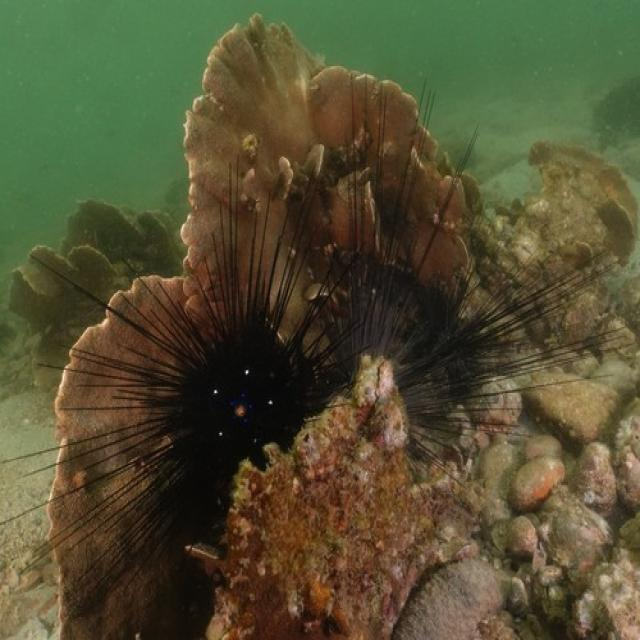Urchin: (21, 180, 343, 612), (315, 83, 623, 456)
